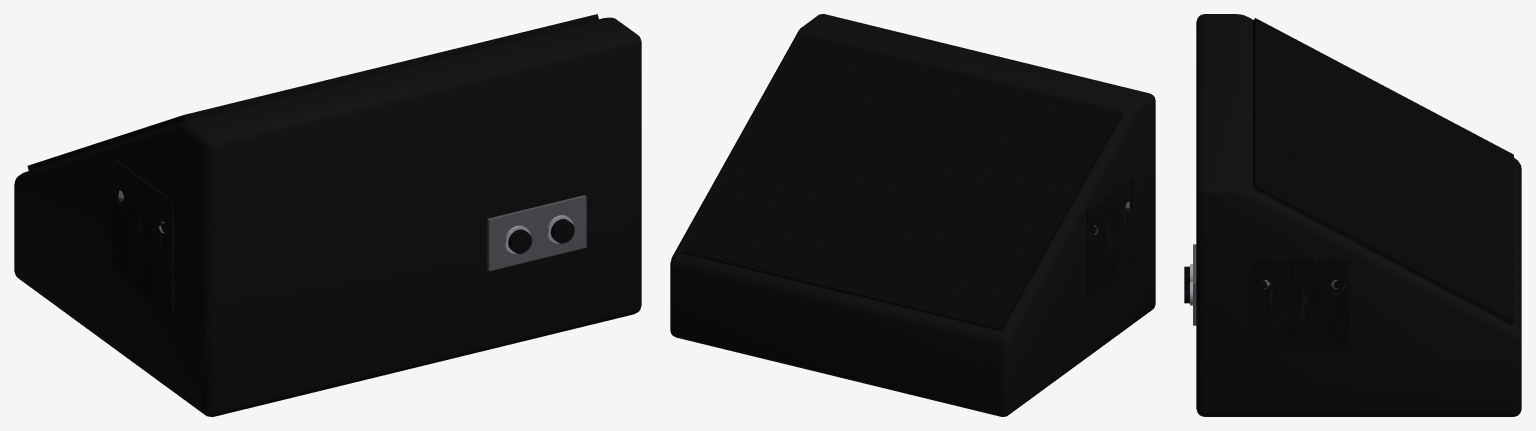
Rendered from wedge_em_3.gltf.
3 views of the same model, side by side, from view 1: azimuth 30°, elevation 25°; view 2: azimuth 150°, elevation 25°; view 3: azimuth 270°, elevation 25° (orthographic). The views are drawn at different scales.
Visible parts, largest first — view 1: wedge_em_3; view 2: wedge_em_3; view 3: wedge_em_3.
Boxes of the visible parts, left/top/right/bottom form: wedge_em_3: left=14, top=14, right=641, bottom=416; wedge_em_3: left=670, top=14, right=1155, bottom=416; wedge_em_3: left=1184, top=14, right=1521, bottom=416.
Size of the model in its own units: 0.7396 by 0.452 by 0.581.
Materials: 6 (6 with a texture image).
